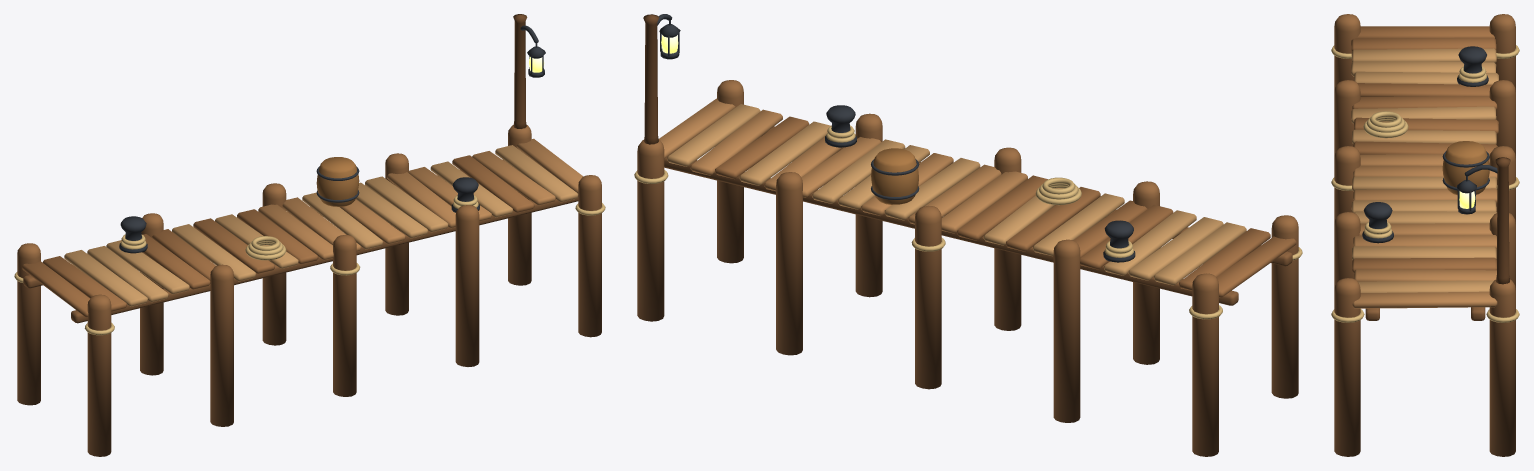
File: dock.glb
3 views of the same model, side by side, from view 1: azimuth 30°, elevation 25°; view 2: azimuth 150°, elevation 25°; view 3: azimuth 270°, elevation 25° (orthographic). The views are drawn at different scales.
Parts seen in each view (by area): view 1: Dock; view 2: Dock; view 3: Dock.
Boxes of the visible parts, x1,y1,x2,y2 form: Dock: (14, 14, 605, 456); Dock: (634, 14, 1302, 456); Dock: (1331, 14, 1519, 456).
Size of the model in its own units: 10.1 by 4.92 by 2.87.
